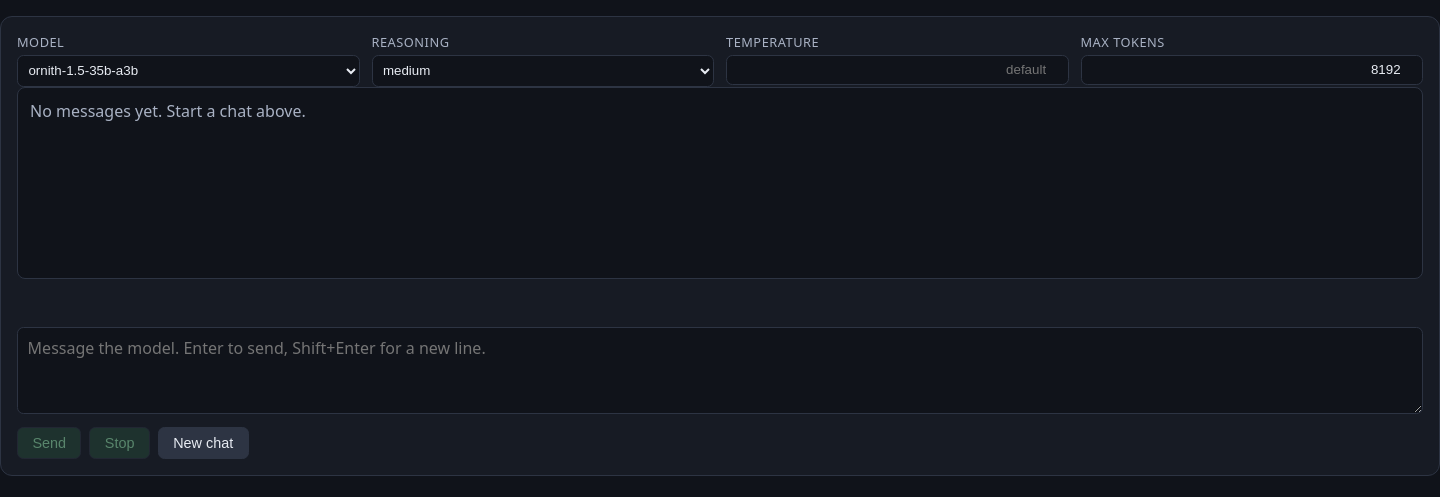
it: ChatPlayground › clears a failing stream without leaving a blank assistant turn
Replace the text in the text box with test id "prompt-input" with "Go". click: (720, 370)
box: [17,327,1423,414]
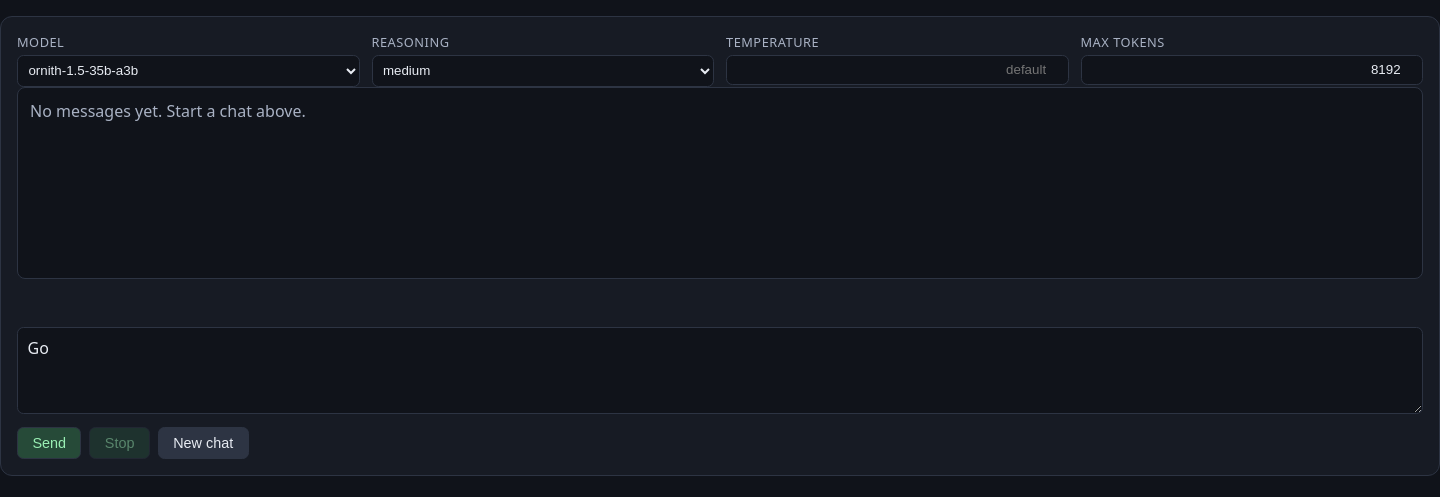
Click the button with test id "send-button". click: (49, 443)
box: [17,427,81,459]
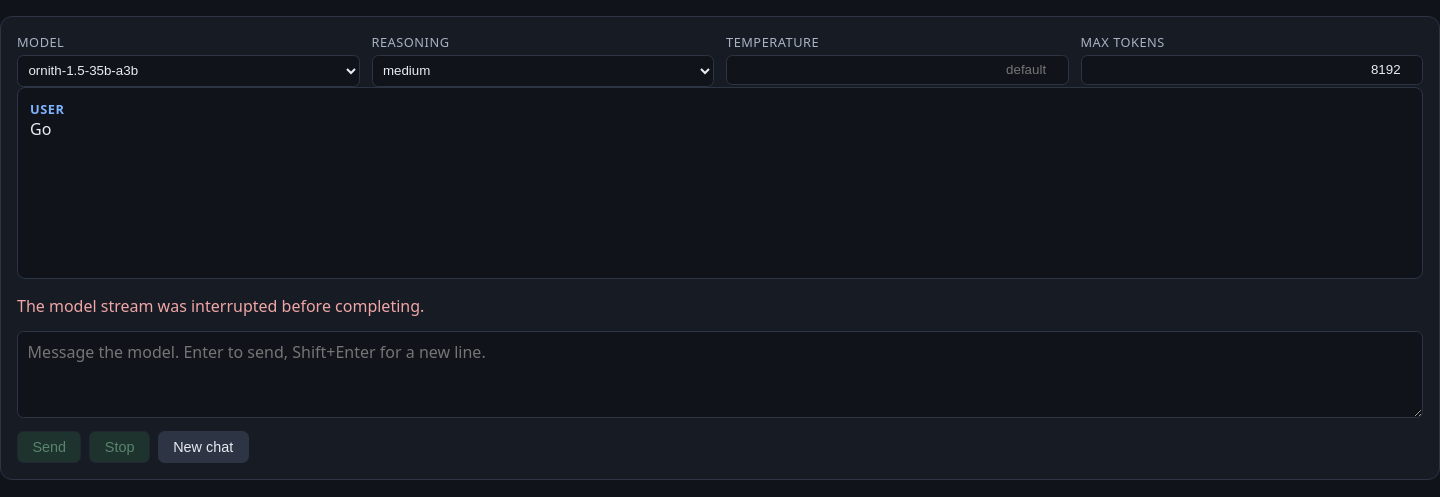
Result: the text with test id "error-banner" reads "The model stream was interrupted before completing." at [17,295,424,317]
